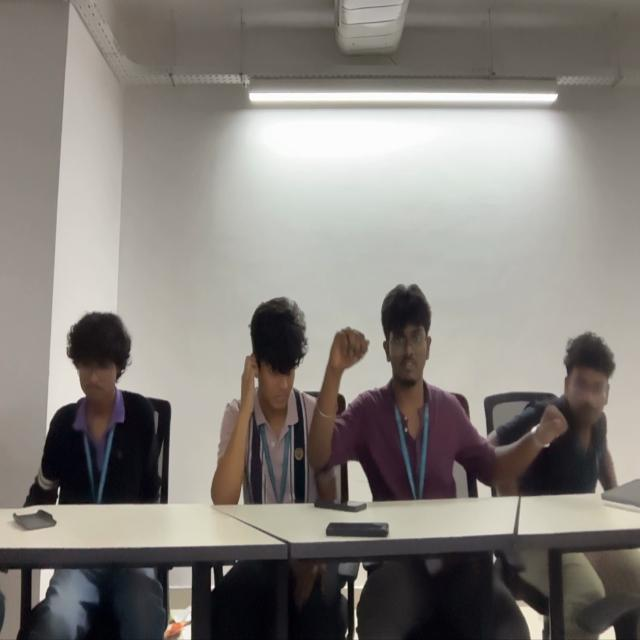Isolated: (28, 312, 160, 500)
socializing: (217, 284, 619, 498)
